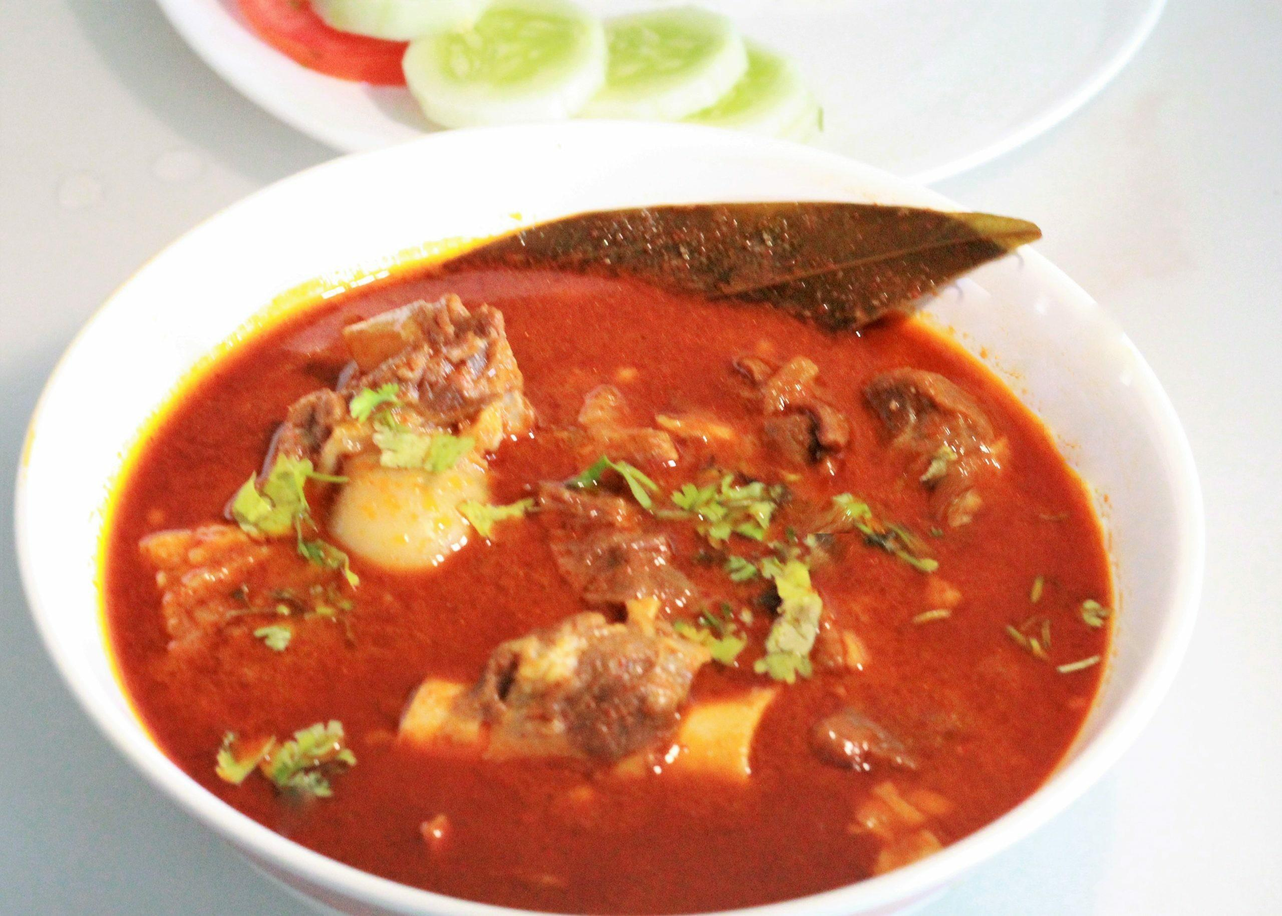MuttonCurry: (107, 252, 1116, 916)
